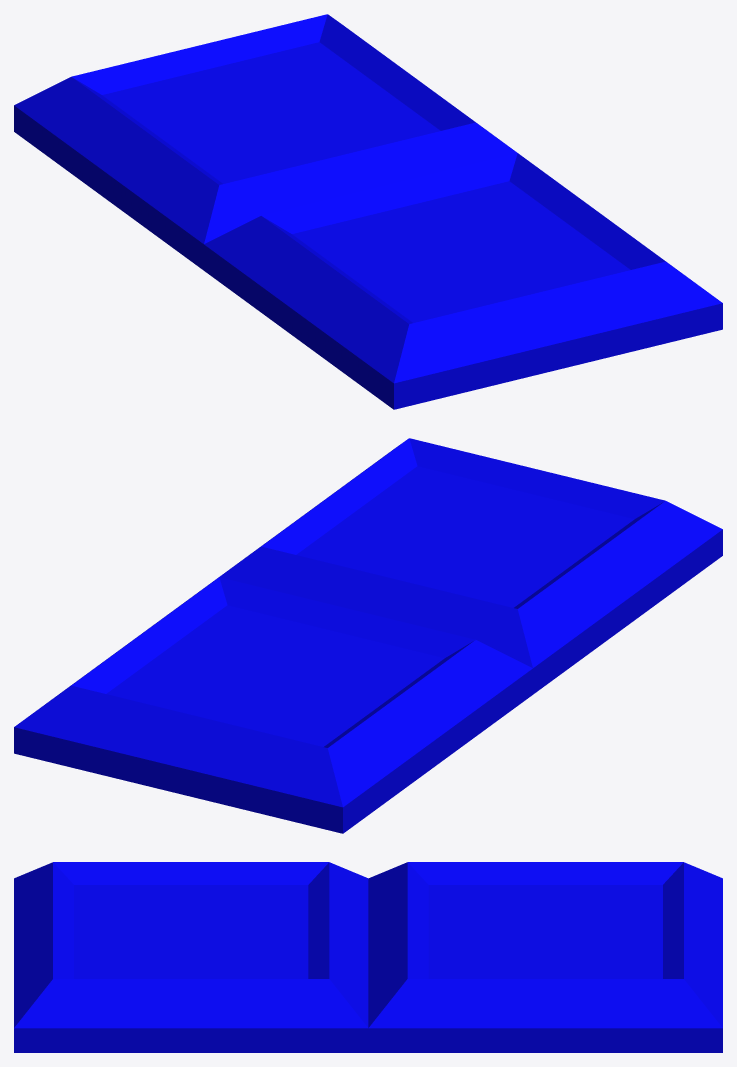
The model's file is stone.obj.
3 renders of one model, top to bottom at view 1: azimuth 30°, elevation 25°; view 2: azimuth 150°, elevation 25°; view 3: azimuth 270°, elevation 25°, orthographic. The views are drawn at different scales.
Visible parts, largest first — view 1: 立方体.001; view 2: 立方体.001; view 3: 立方体.001.
Part boxes in pixels (x1,y1,x2,y2): 立方体.001: (14,14,722,409); 立方体.001: (14,438,722,833); 立方体.001: (14,862,722,1052).
Size of the model in its own units: 2 by 0.3573 by 4.
